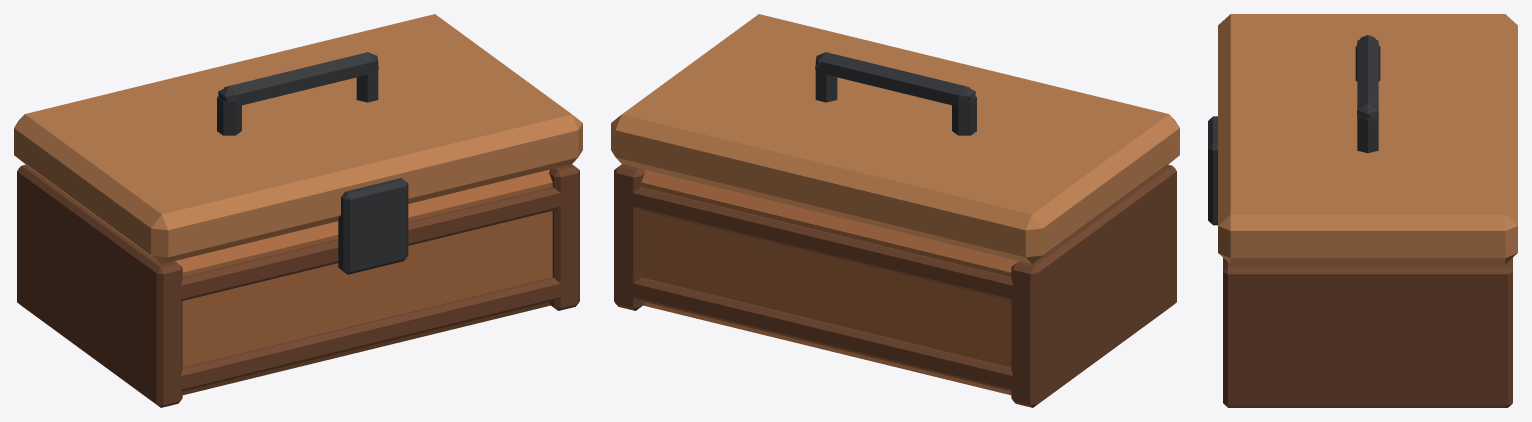
The model's file is Lodge_Cashbox.fbx.
3 renders of one model, left to right at view 1: azimuth 30°, elevation 25°; view 2: azimuth 150°, elevation 25°; view 3: azimuth 270°, elevation 25°, orthographic.
Parts seen in each view (by area): view 1: Lid, FnWoodDark, FnWood, FnMetal; view 2: Lid, FnWoodDark, FnWood, FnMetal; view 3: Lid, FnWoodDark, FnMetal.
Boxes of the visible parts, box(x1,y1,x2,y2) form: Lid: box(14, 14, 582, 263); FnWoodDark: box(17, 164, 579, 407); FnWood: box(175, 169, 552, 395); FnMetal: box(217, 52, 408, 274); Lid: box(611, 14, 1179, 263); FnWoodDark: box(614, 164, 1176, 407); FnWood: box(641, 169, 1018, 395); FnMetal: box(815, 52, 976, 135); Lid: box(1218, 14, 1517, 264); FnWoodDark: box(1223, 258, 1512, 407); FnMetal: box(1208, 35, 1380, 225).
Bounding box in the file's own units: 2 × 1.05 × 1.24.
